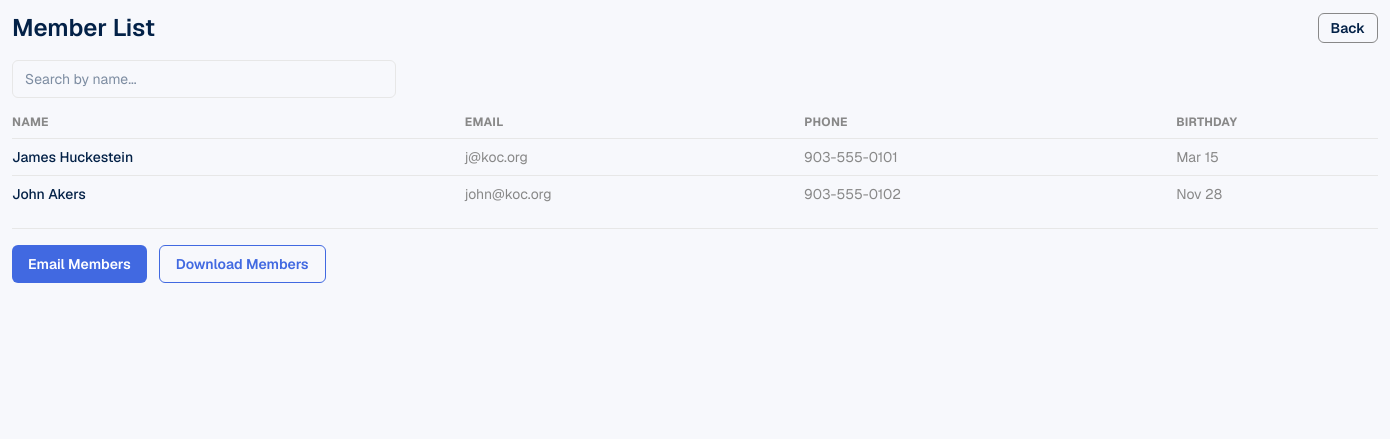
MemberList › shows email compose form when Email Members is clicked
The image size is (1390, 439).
Click the button "Email Members". click: (79, 264)
box: 12,245 -> 147,283
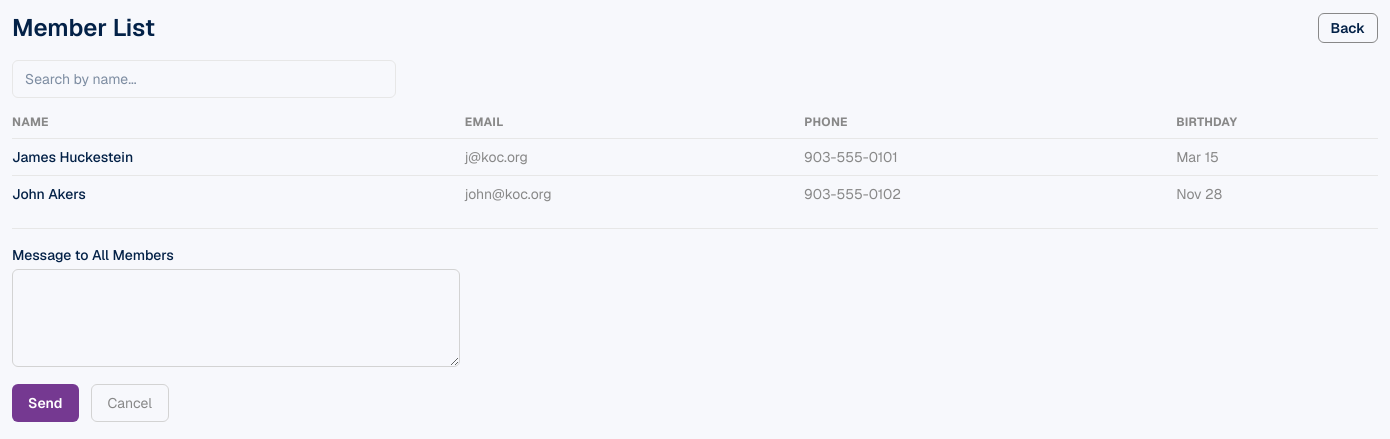
Now the text "Message to All Members" is shown, box 12,245 -> 460,372
